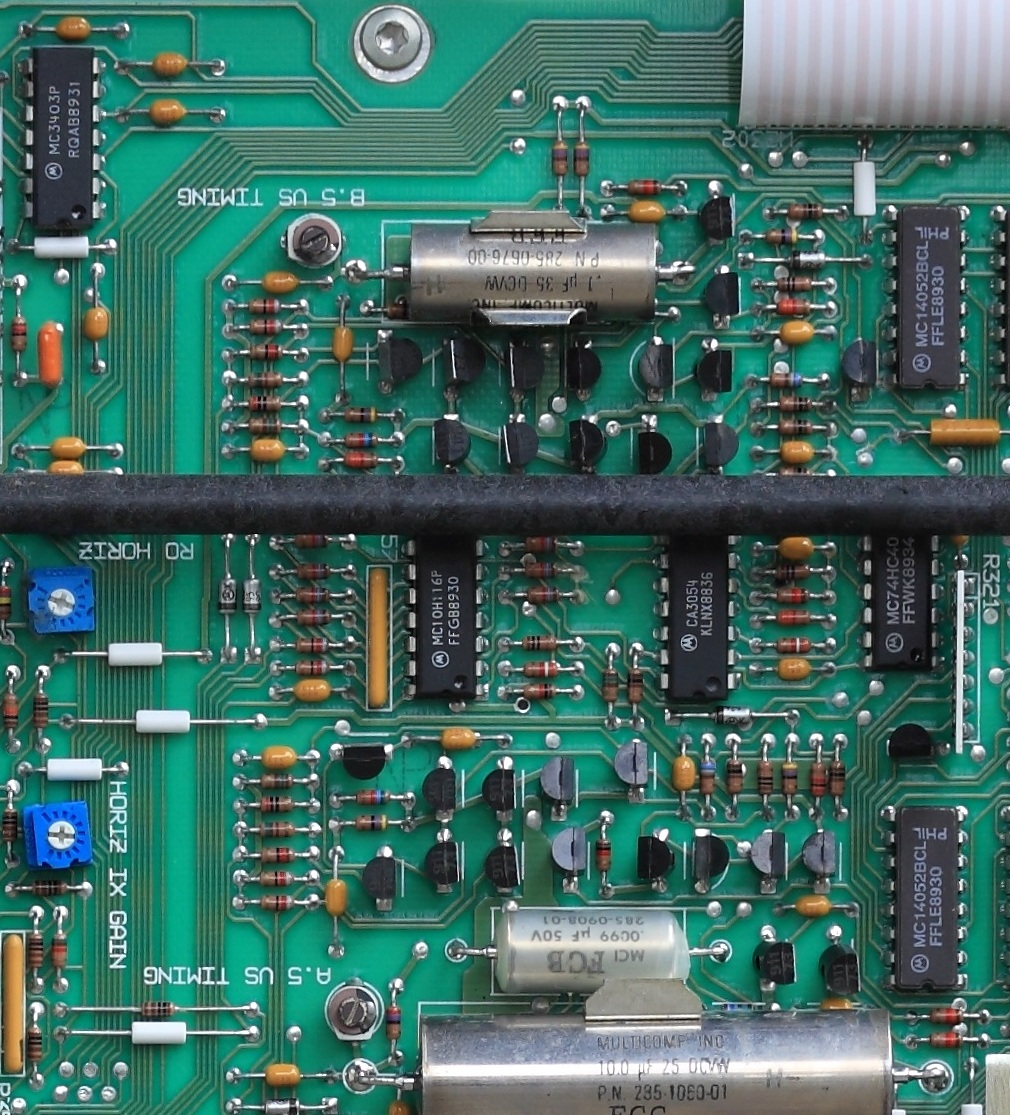Diode: (214, 571, 241, 622), (784, 247, 835, 274), (253, 1091, 310, 1115), (239, 571, 265, 621)
Resistor: (7, 308, 33, 360), (47, 925, 73, 975), (242, 337, 291, 363), (624, 659, 648, 712), (29, 687, 55, 735), (253, 866, 298, 892), (242, 291, 288, 316), (287, 635, 337, 658), (752, 754, 777, 800), (520, 582, 570, 605), (512, 682, 564, 704), (289, 605, 336, 629), (723, 753, 747, 800), (777, 756, 801, 803), (622, 176, 669, 200), (25, 1019, 46, 1072), (254, 793, 302, 816), (348, 786, 396, 809), (599, 662, 623, 708), (250, 818, 300, 840), (241, 413, 288, 436), (759, 226, 804, 250), (253, 844, 302, 866), (515, 659, 564, 681), (1, 685, 22, 736), (240, 370, 288, 392), (547, 137, 570, 182), (255, 890, 300, 913), (381, 1000, 404, 1045), (591, 834, 615, 877), (1, 800, 22, 849), (134, 998, 183, 1019), (923, 1030, 972, 1051), (346, 813, 394, 834), (922, 1006, 972, 1026), (771, 418, 821, 438), (23, 878, 75, 897), (768, 562, 820, 581), (807, 755, 828, 802), (770, 584, 817, 605), (515, 633, 564, 653), (242, 316, 288, 337), (290, 560, 336, 581), (697, 757, 720, 799), (241, 393, 289, 413), (288, 658, 336, 678), (769, 635, 817, 655), (772, 274, 820, 294), (336, 405, 386, 424), (782, 202, 832, 221), (519, 533, 562, 555), (255, 771, 300, 792), (517, 559, 562, 580), (773, 394, 818, 415), (288, 585, 335, 605), (335, 431, 384, 450), (335, 450, 384, 469), (571, 137, 592, 181), (26, 926, 45, 974), (827, 755, 846, 802), (763, 370, 810, 389), (291, 531, 333, 552), (770, 608, 815, 627), (771, 298, 816, 317), (1, 577, 15, 627), (772, 463, 817, 477)
